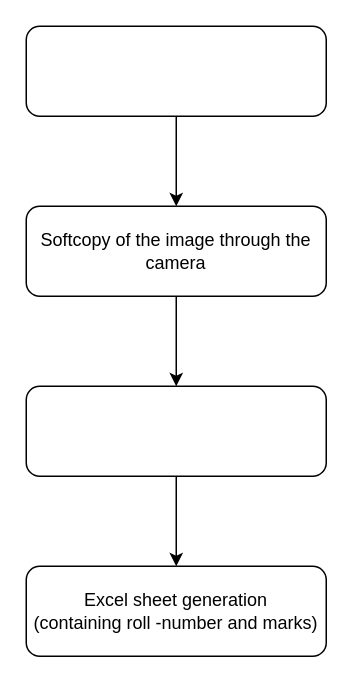
This 353x683 diagram has some shape labels left out. Here are the shapes that lost their labels. From the top down, the box of each, then its label:
(25, 25, 326, 116): Hardware mounted with camera (Mostly a mobile phone)
(25, 385, 326, 476): Processed through software (EPR)
